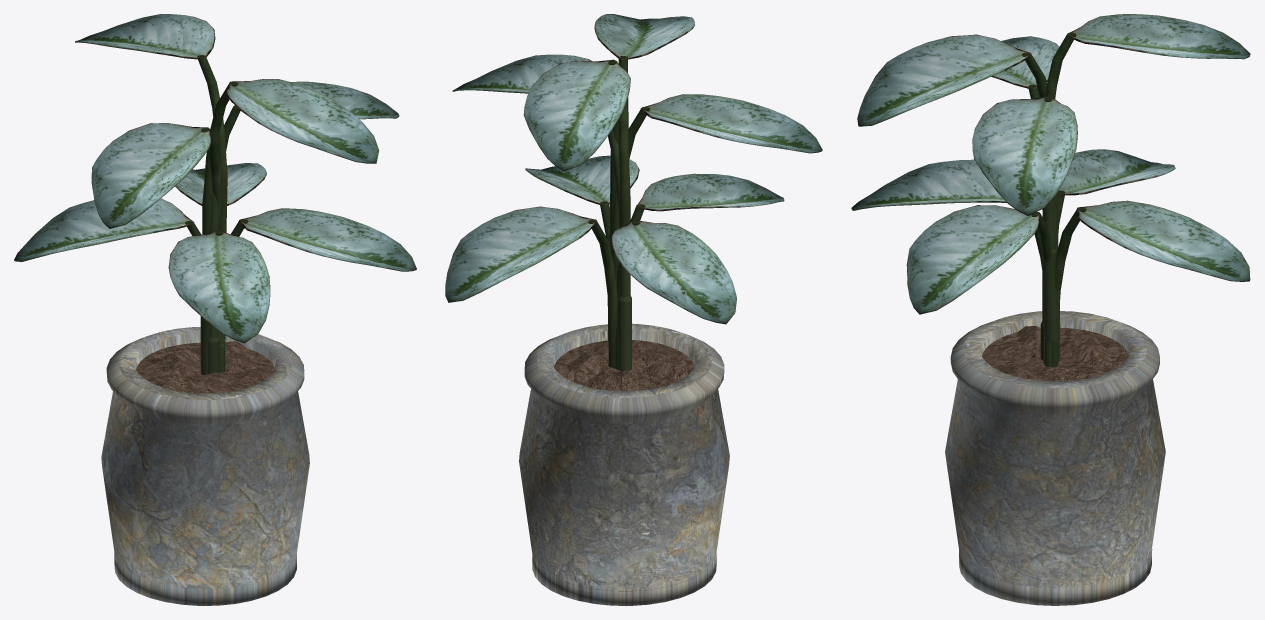
File: Donatella Aglaonema1.fbx
3 views of the same model, side by side, from view 1: azimuth 30°, elevation 25°; view 2: azimuth 150°, elevation 25°; view 3: azimuth 270°, elevation 25° (orthographic). The views are drawn at different scales.
Visible parts, largest first — view 1: Plane.006; view 2: Plane.006; view 3: Plane.006.
Boxes of the visible parts, bbox=[...] form: Plane.006: bbox=[14, 14, 416, 605]; Plane.006: bbox=[445, 14, 822, 605]; Plane.006: bbox=[851, 14, 1250, 605].
Bounding box in the file's own units: 41.03 × 61.14 × 41.05.
18 materials, 18 textured.
